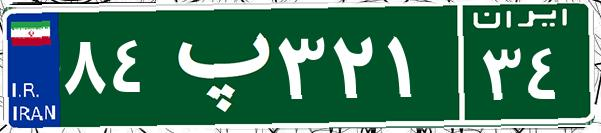1: (385, 28, 445, 110)
2: (330, 28, 385, 110)
3: (273, 28, 330, 110), (475, 38, 525, 113)
4: (110, 28, 158, 105), (525, 38, 570, 115)
8: (57, 26, 110, 107)
پ: (158, 15, 273, 115)
